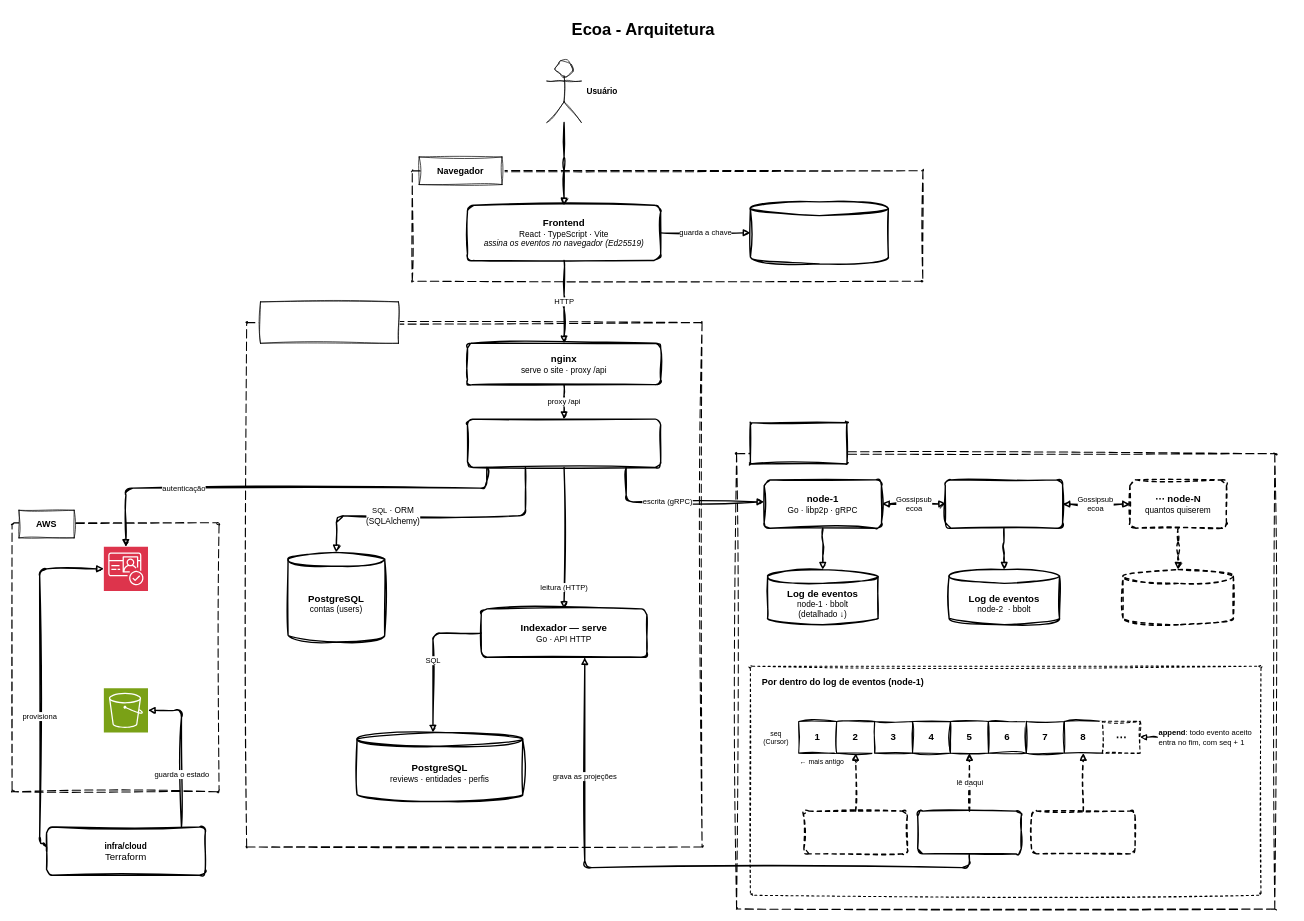
The diagram is 1304 pixels wide and 921 high, and some of its shapes have lost their labels. Each missing label, with the box of its shape:
Amazon Cognito login · cadastro · JWT: (103, 546, 148, 591)
Amazon S3 estado do Terraform: (103, 688, 148, 732)
Backend Python · FastAPI: (466, 418, 661, 468)
Indexador B outro operador · cursor 2: (803, 810, 908, 854)
Indexador N ⋯ em dia · cursor 8: (1031, 810, 1135, 854)
IndexedDB chave Ed25519 do usuário: (749, 201, 889, 264)
infra/local Docker Compose: (260, 301, 398, 343)
node-2 Go · libp2p · gRPC: (944, 479, 1063, 529)
Nosso Indexador cursor 5: (917, 810, 1022, 854)
Rede P2P Go · libp2p: (749, 422, 847, 464)
⋯ log do node-N · bbolt: (1122, 569, 1234, 625)
